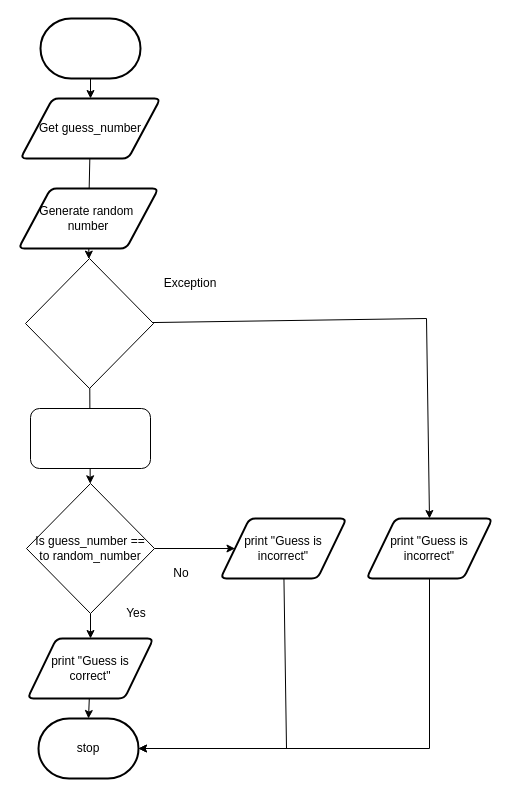
This 510x796 diagram has some shape labels left out. The shapes that lost their labels are listed below. From the top down, each one's centre as x and y in pixels, then its label:
At (x=90, y=48): "Start".
At (x=89, y=323): "Try".
At (x=90, y=438): "convert string to int".
